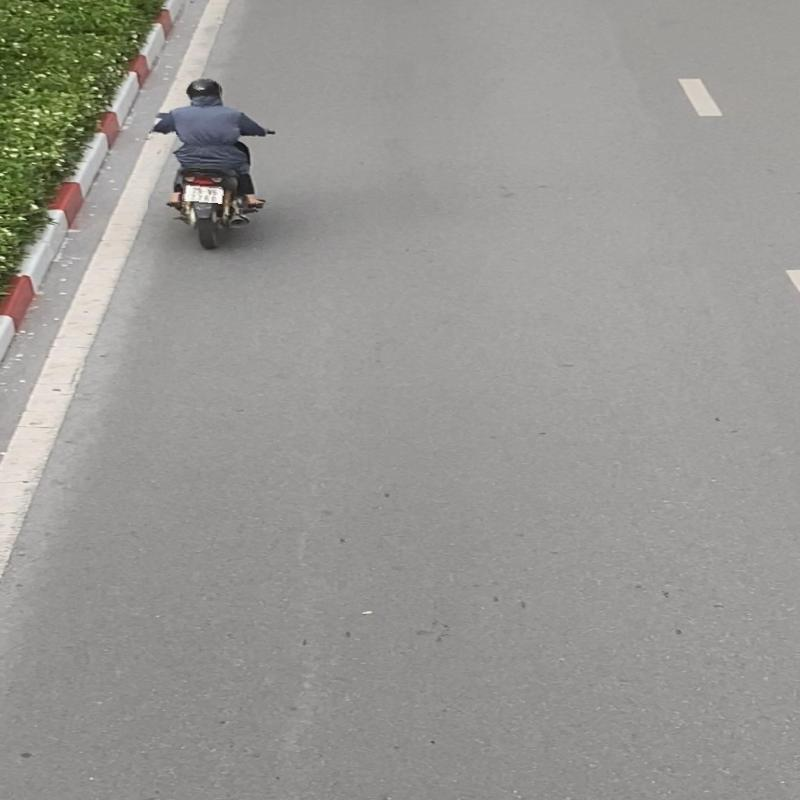helmet: (186, 78, 221, 100)
licenseplate: (184, 185, 224, 203)
motorcyclist: (149, 78, 279, 252)
